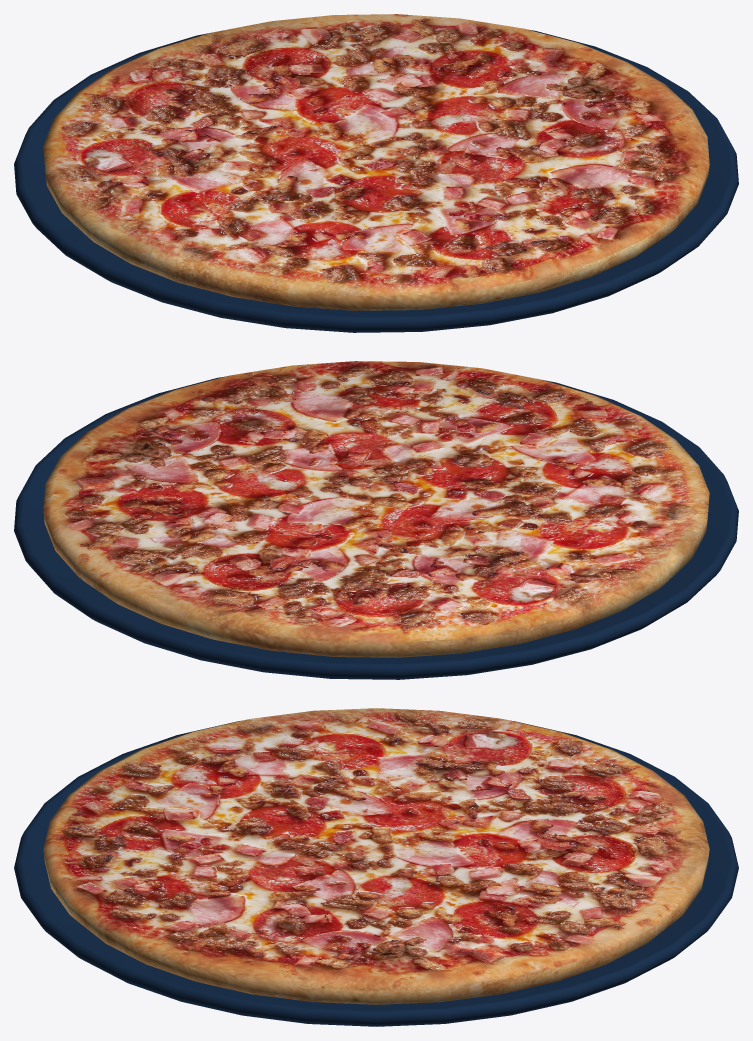
File: Pizza.fbx
3 renders of one model, top to bottom at view 1: azimuth 30°, elevation 25°; view 2: azimuth 150°, elevation 25°; view 3: azimuth 270°, elevation 25°, orthographic.
Parts seen in each view (by area): view 1: Circle, Plate; view 2: Circle, Plate; view 3: Circle, Plate.
Part boxes in pixels (x1=…): Circle: x1=43, y1=14, x2=709, y2=310; Plate: x1=14, y1=30, x2=738, y2=332; Circle: x1=43, y1=361, x2=709, y2=657; Plate: x1=14, y1=377, x2=738, y2=679; Circle: x1=43, y1=708, x2=709, y2=1004; Plate: x1=14, y1=720, x2=738, y2=1026.
Size of the model in its own units: 275 by 19.92 by 275.
